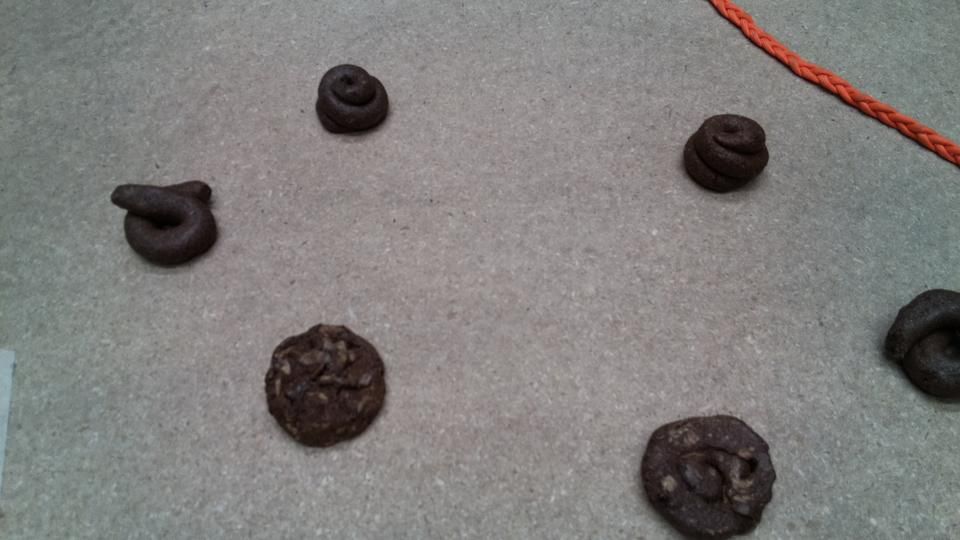poop: (647, 414, 775, 539), (271, 325, 383, 443), (113, 183, 215, 264), (891, 290, 960, 396), (686, 116, 770, 197), (317, 66, 389, 133)
rope: (862, 104, 921, 137), (762, 35, 810, 74), (710, 1, 761, 34), (810, 74, 862, 104), (920, 131, 960, 163)
